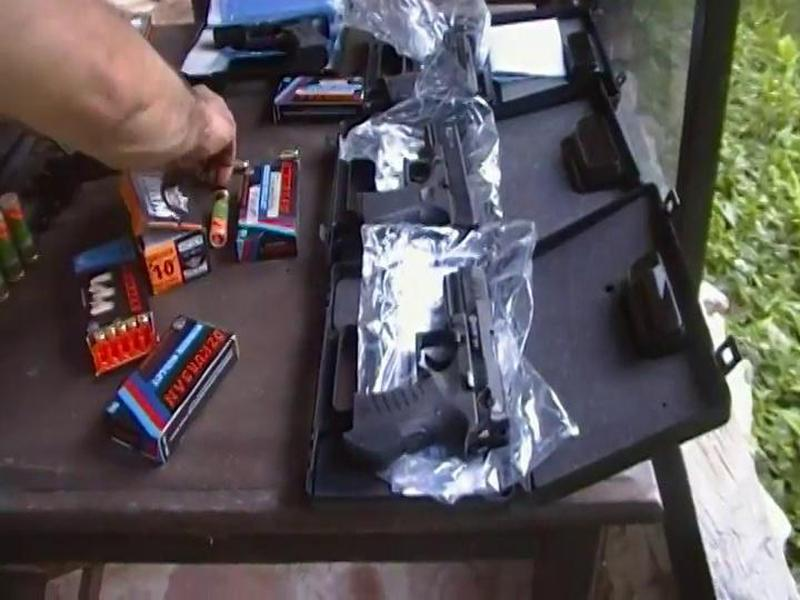Pistola: (331, 263, 540, 475), (344, 117, 500, 249)
